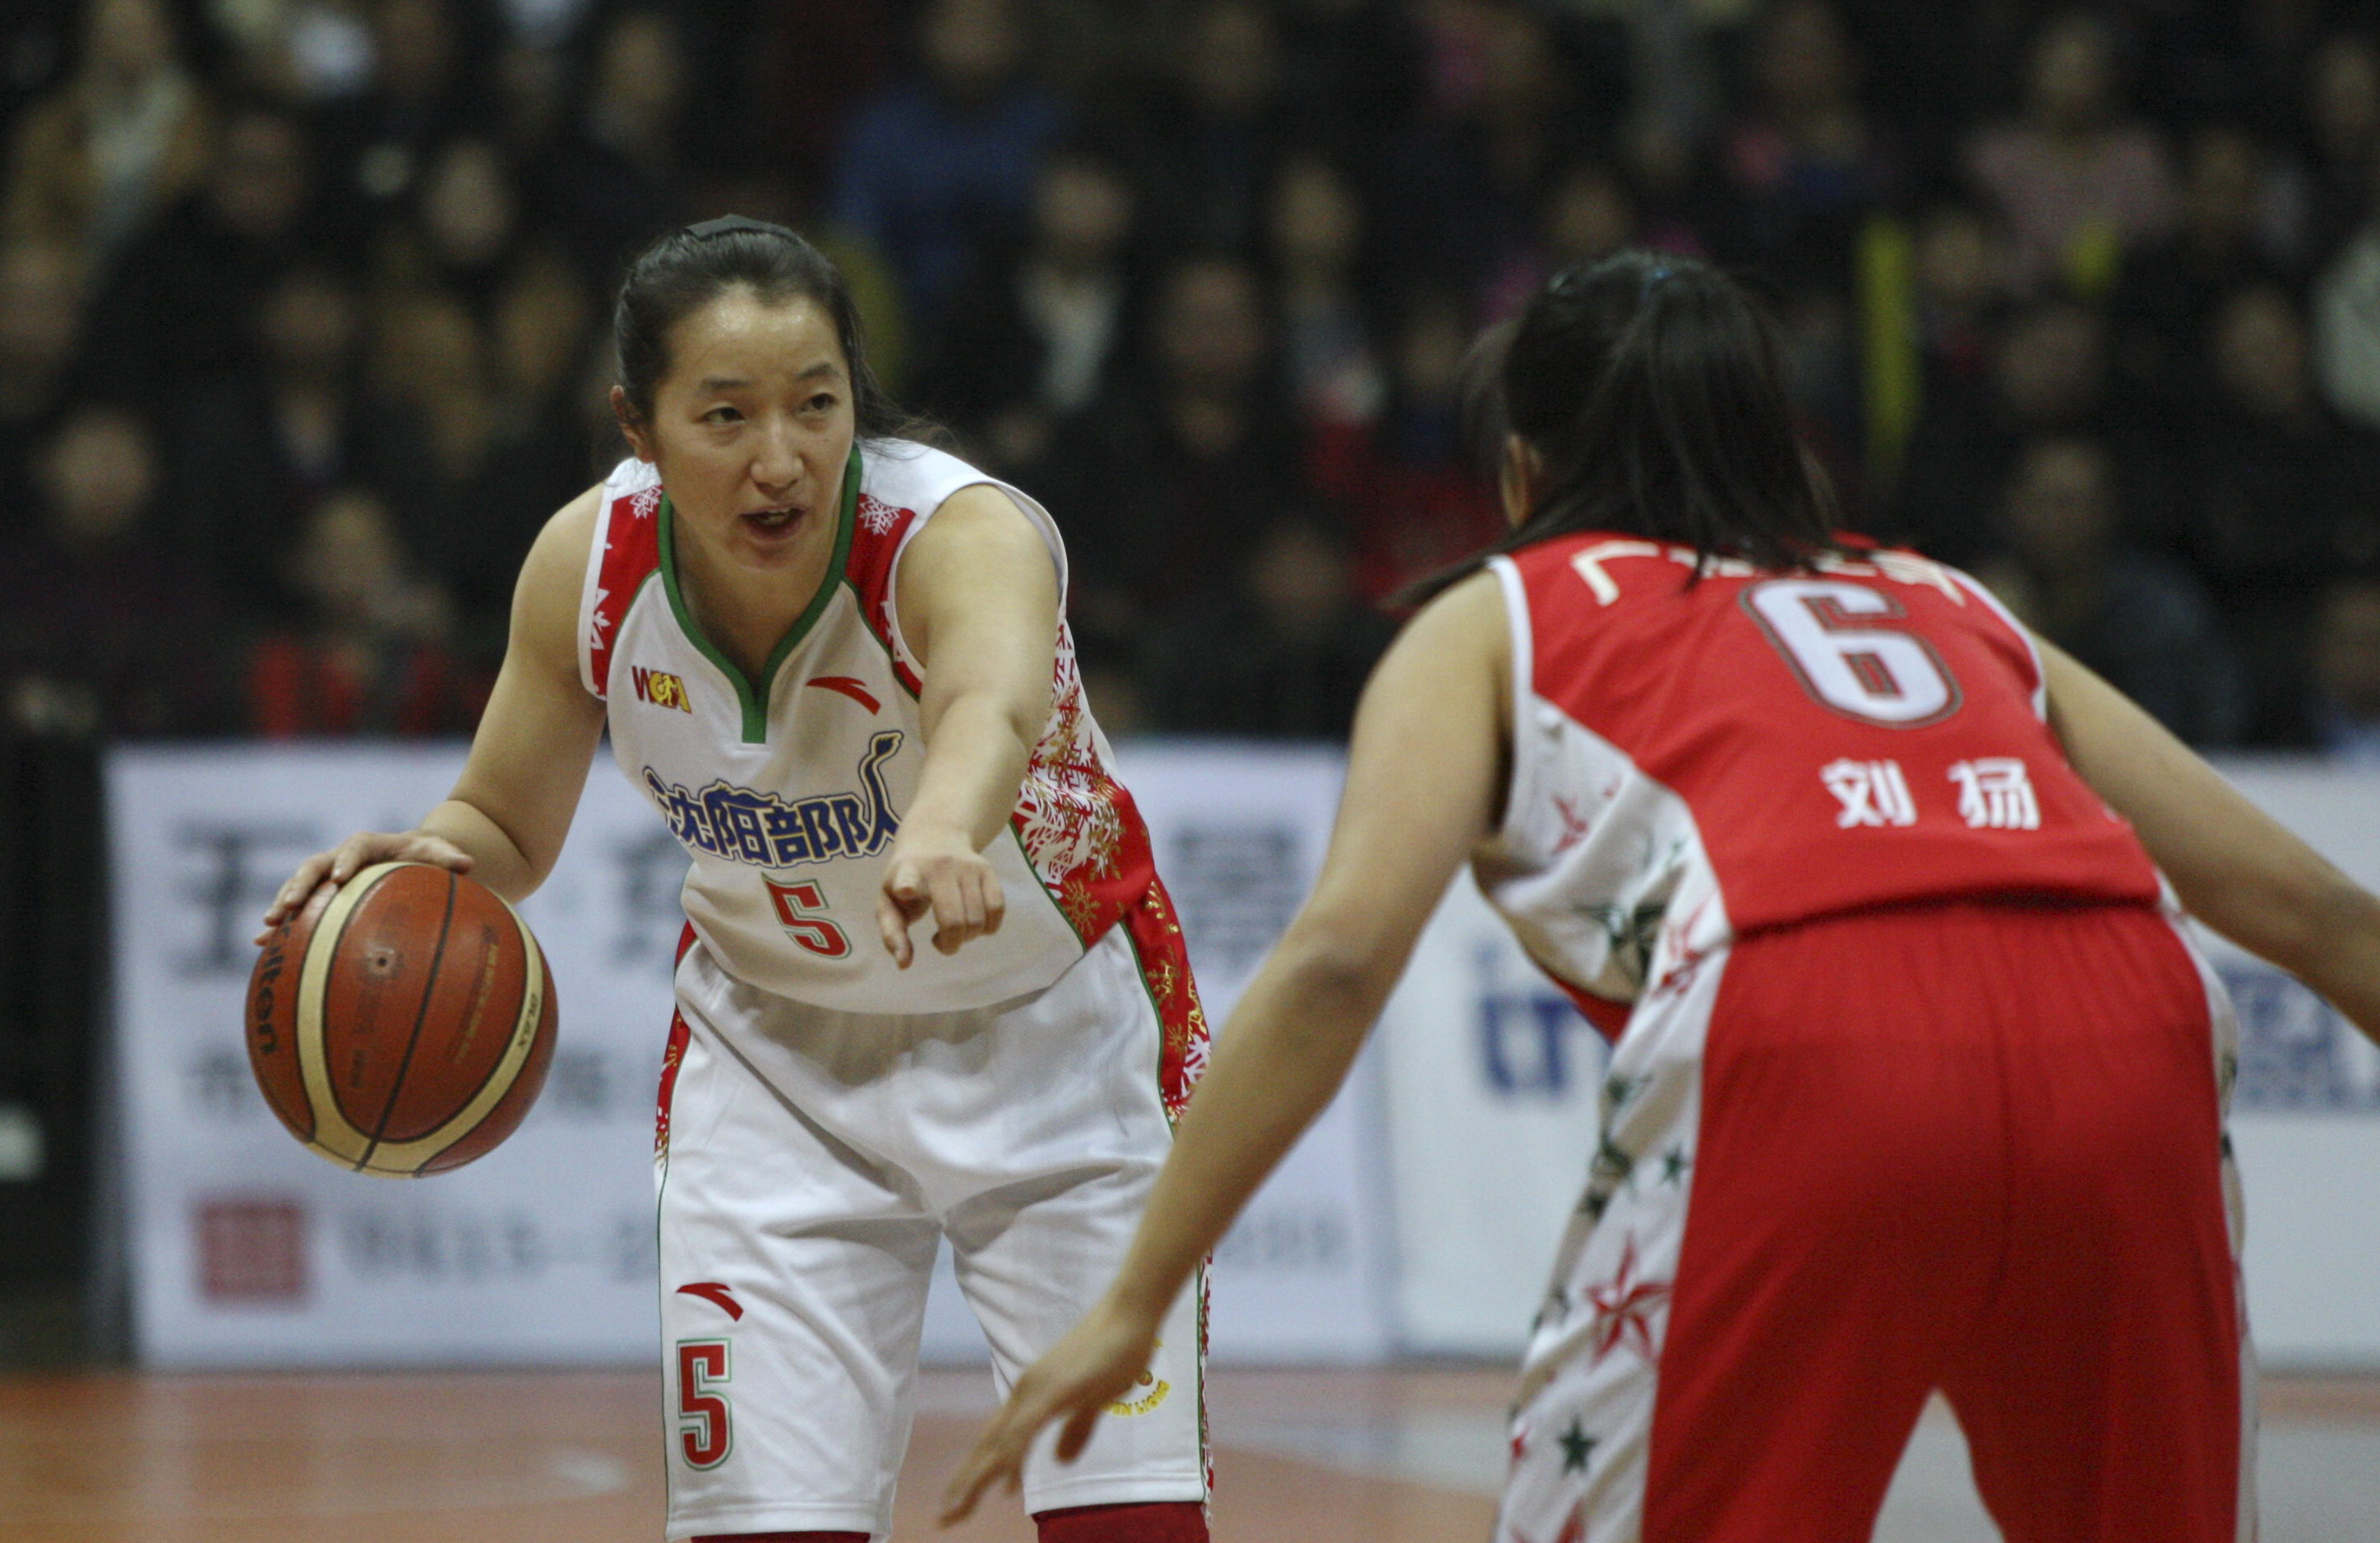ball: (246, 850, 564, 1184)
